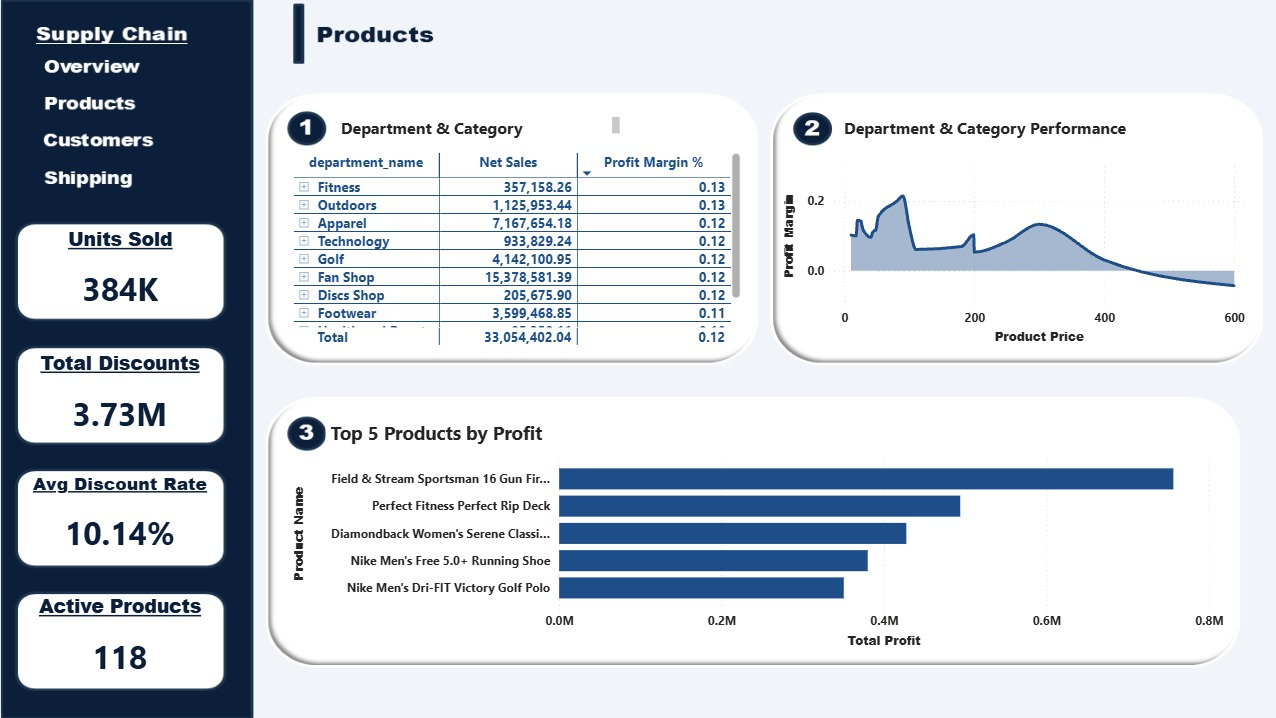

The page's visual inventory and layout, read from the dashboard file:
{"tool":"powerbi","page":{"name":"Products","canvas":[1280,720],"ordinal":1},"visuals":[{"type":"cardVisual","title":"Units Sold","fields":{"Data":["Gold FactOrders.Total Units Sold"]},"box":[20.4,226.1,199.2,97.1],"z":0},{"type":"cardVisual","title":"Total Discounts","fields":{"Data":["Gold FactOrders.Total Discounts"]},"box":[20,350.7,198.7,97.3],"z":1},{"type":"cardVisual","title":"Avg Discount Rate","fields":{"Data":["Gold FactOrders.Avg Discount Rate %"]},"box":[20,472,198.7,97.3],"z":2},{"type":"cardVisual","title":"Active Products","fields":{"Data":["Gold FactOrders.Active Products"]},"box":[20,594.7,198.7,97.3],"z":3},{"type":"clusteredBarChart","fields":{"Category":["Gold DimProducts.product_name"],"Y":["Gold FactOrders.Total Profit"]},"box":[288,445.3,942.7,209.3],"z":4},{"type":"textbox","box":[325.3,416,254.7,44],"z":5},{"type":"pivotTable","fields":{"Rows":["Gold DimProducts.department_name","Gold DimProducts.category_name"],"Values":["Gold FactOrders.Net Sales","Gold FactOrders.Profit Margin %"]},"box":[288,148,458.7,202.7],"z":6},{"type":"textbox","box":[336,112,289.3,36],"z":7},{"type":"areaChart","fields":{"Category":["Gold DimProducts.product_price"],"Y":["Gold FactOrders.Profit Margin %"]},"box":[780,152,472,198.7],"z":8},{"type":"textbox","box":[840,112,304,36],"z":9}]}

Visuals, with their boxes on the page's 1280x720 design canvas (x1, y1, x2, y2). These are canvas units, not pixel positions in the 1276x718 screenshot, which may show the page scaled, cropped or inside an application window:
"Units Sold" cardVisual: locate(20, 226, 220, 323)
"Total Discounts" cardVisual: locate(20, 351, 219, 448)
"Avg Discount Rate" cardVisual: locate(20, 472, 219, 569)
"Active Products" cardVisual: locate(20, 595, 219, 692)
clusteredBarChart - Gold DimProducts.product_name x Gold FactOrders.Total Profit: locate(288, 445, 1231, 655)
textbox: locate(325, 416, 580, 460)
pivotTable - Gold DimProducts.department_name x Gold DimProducts.category_name: locate(288, 148, 747, 351)
textbox: locate(336, 112, 625, 148)
areaChart - Gold DimProducts.product_price x Gold FactOrders.Profit Margin %: locate(780, 152, 1252, 351)
textbox: locate(840, 112, 1144, 148)
